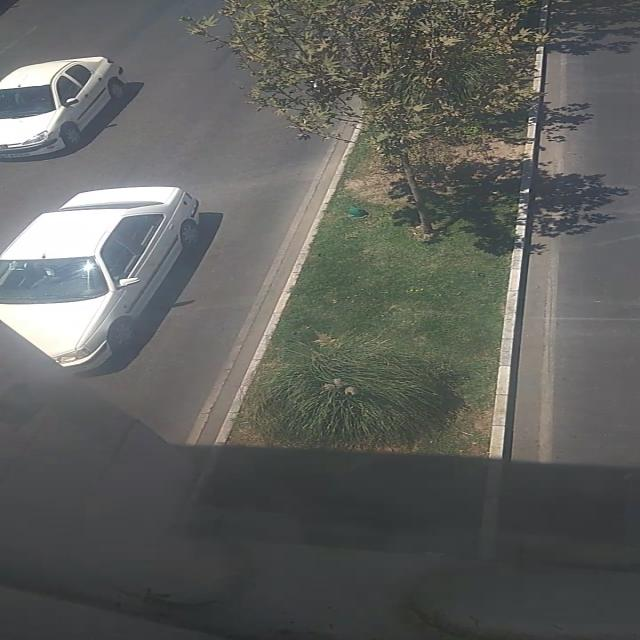car: (0, 186, 198, 370), (0, 56, 129, 160)
